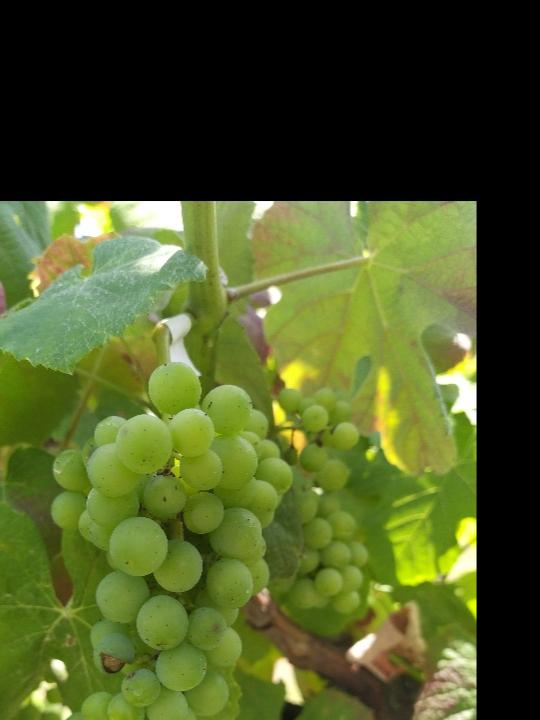grape: (46, 357, 294, 720)
